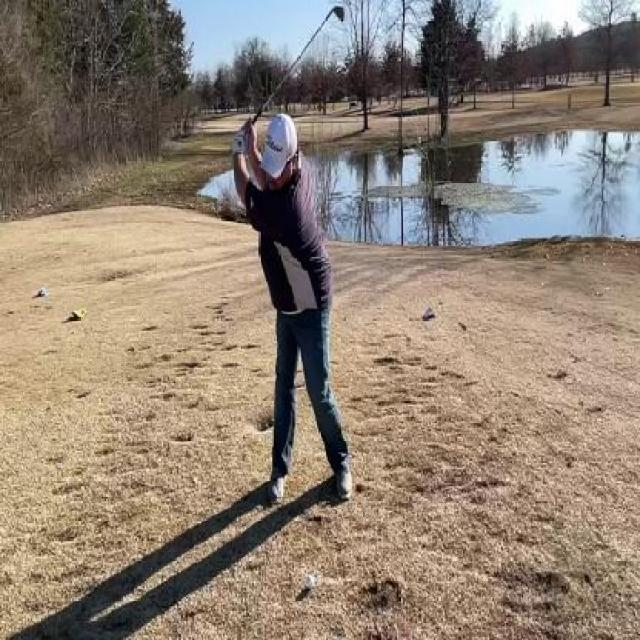club head: (325, 3, 347, 28)
